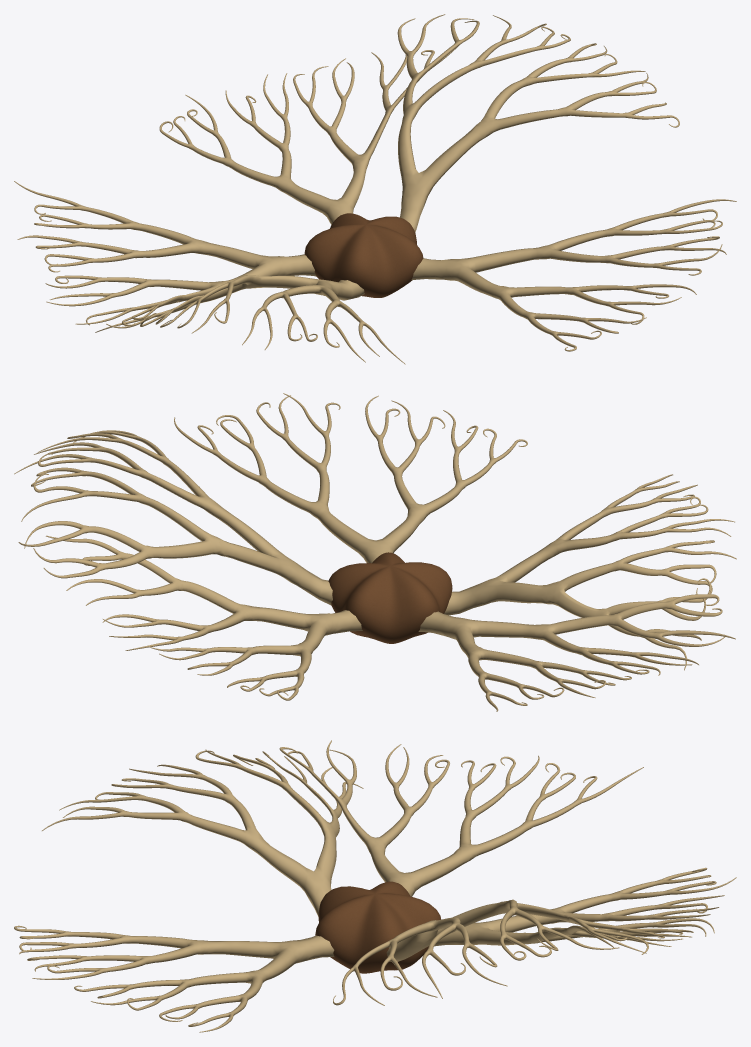
Rendered from NEW695_BasketStar_LOD1.fbx.
The picture shows the model from 3 angles, top to bottom: view 1: azimuth 30°, elevation 25°; view 2: azimuth 150°, elevation 25°; view 3: azimuth 270°, elevation 25°; orthographic projection. The views are drawn at different scales.
Visible parts, largest first — view 1: Basket_star_connected_five_primary_arms, Volumetric_central_disc_with_five_radial_shoulders; view 2: Basket_star_connected_five_primary_arms, Volumetric_central_disc_with_five_radial_shoulders; view 3: Basket_star_connected_five_primary_arms, Volumetric_central_disc_with_five_radial_shoulders.
Boxes of the visible parts, x1=… form: Basket_star_connected_five_primary_arms: x1=14, y1=14, x2=736, y2=364; Volumetric_central_disc_with_five_radial_shoulders: x1=304, y1=213, x2=423, y2=297; Basket_star_connected_five_primary_arms: x1=14, y1=393, x2=736, y2=711; Volumetric_central_disc_with_five_radial_shoulders: x1=328, y1=552, x2=452, y2=643; Basket_star_connected_five_primary_arms: x1=14, y1=740, x2=736, y2=1032; Volumetric_central_disc_with_five_radial_shoulders: x1=315, y1=881, x2=441, y2=973.
Size of the model in its own units: 0.3 by 0.0679 by 0.2813.
Materials: 1 (1 with a texture image).
